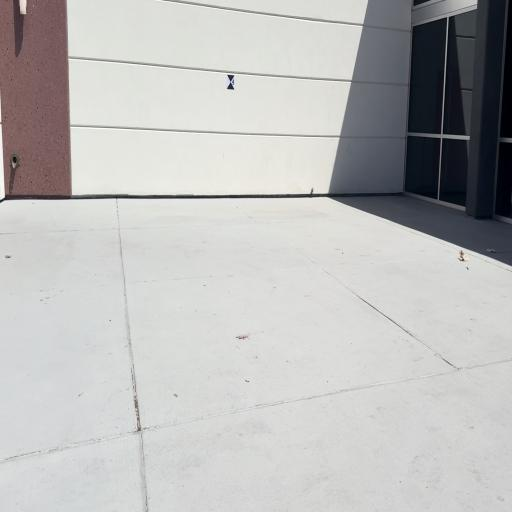target4: (226, 74, 235, 90)
